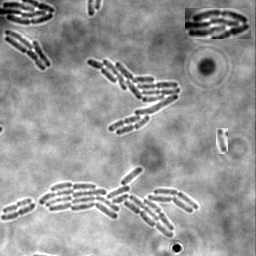Dividing: (1, 204, 37, 222), (3, 199, 33, 215)
Microcolony: (40, 167, 199, 238), (87, 59, 181, 136), (185, 8, 251, 39), (5, 30, 52, 72), (1, 1, 56, 26)
Rod: (216, 128, 228, 154)
